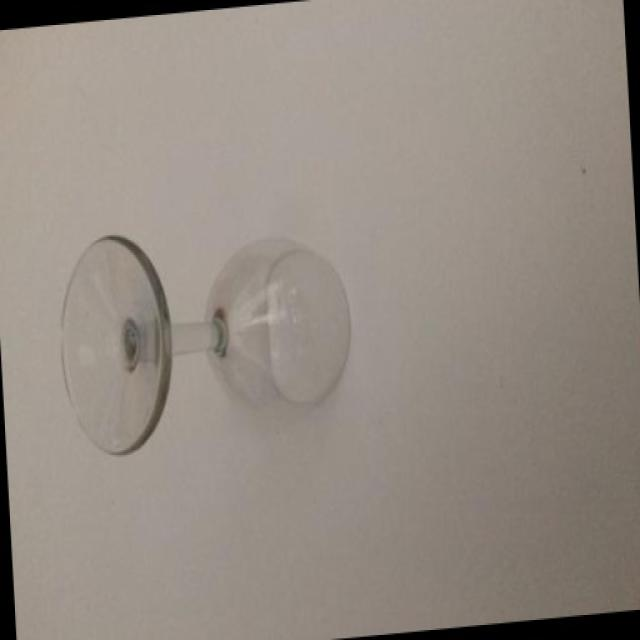vidrio: (47, 165, 400, 570)
